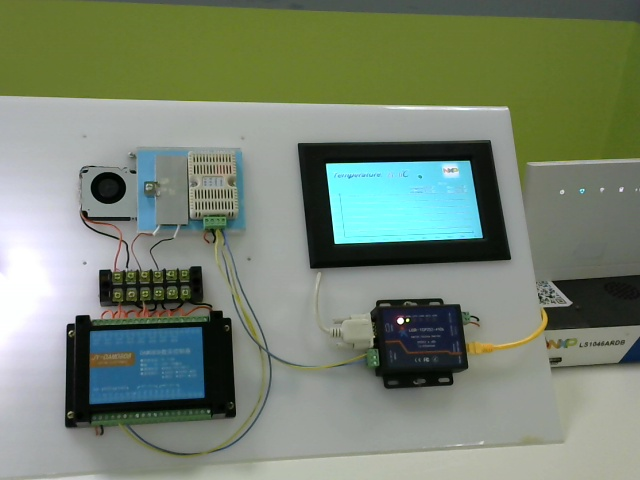fan: (74, 164, 136, 220)
heater: (149, 149, 187, 235)
modbus bridge: (370, 297, 474, 399)
relay: (56, 310, 249, 436)
termperature: (184, 146, 243, 231)
